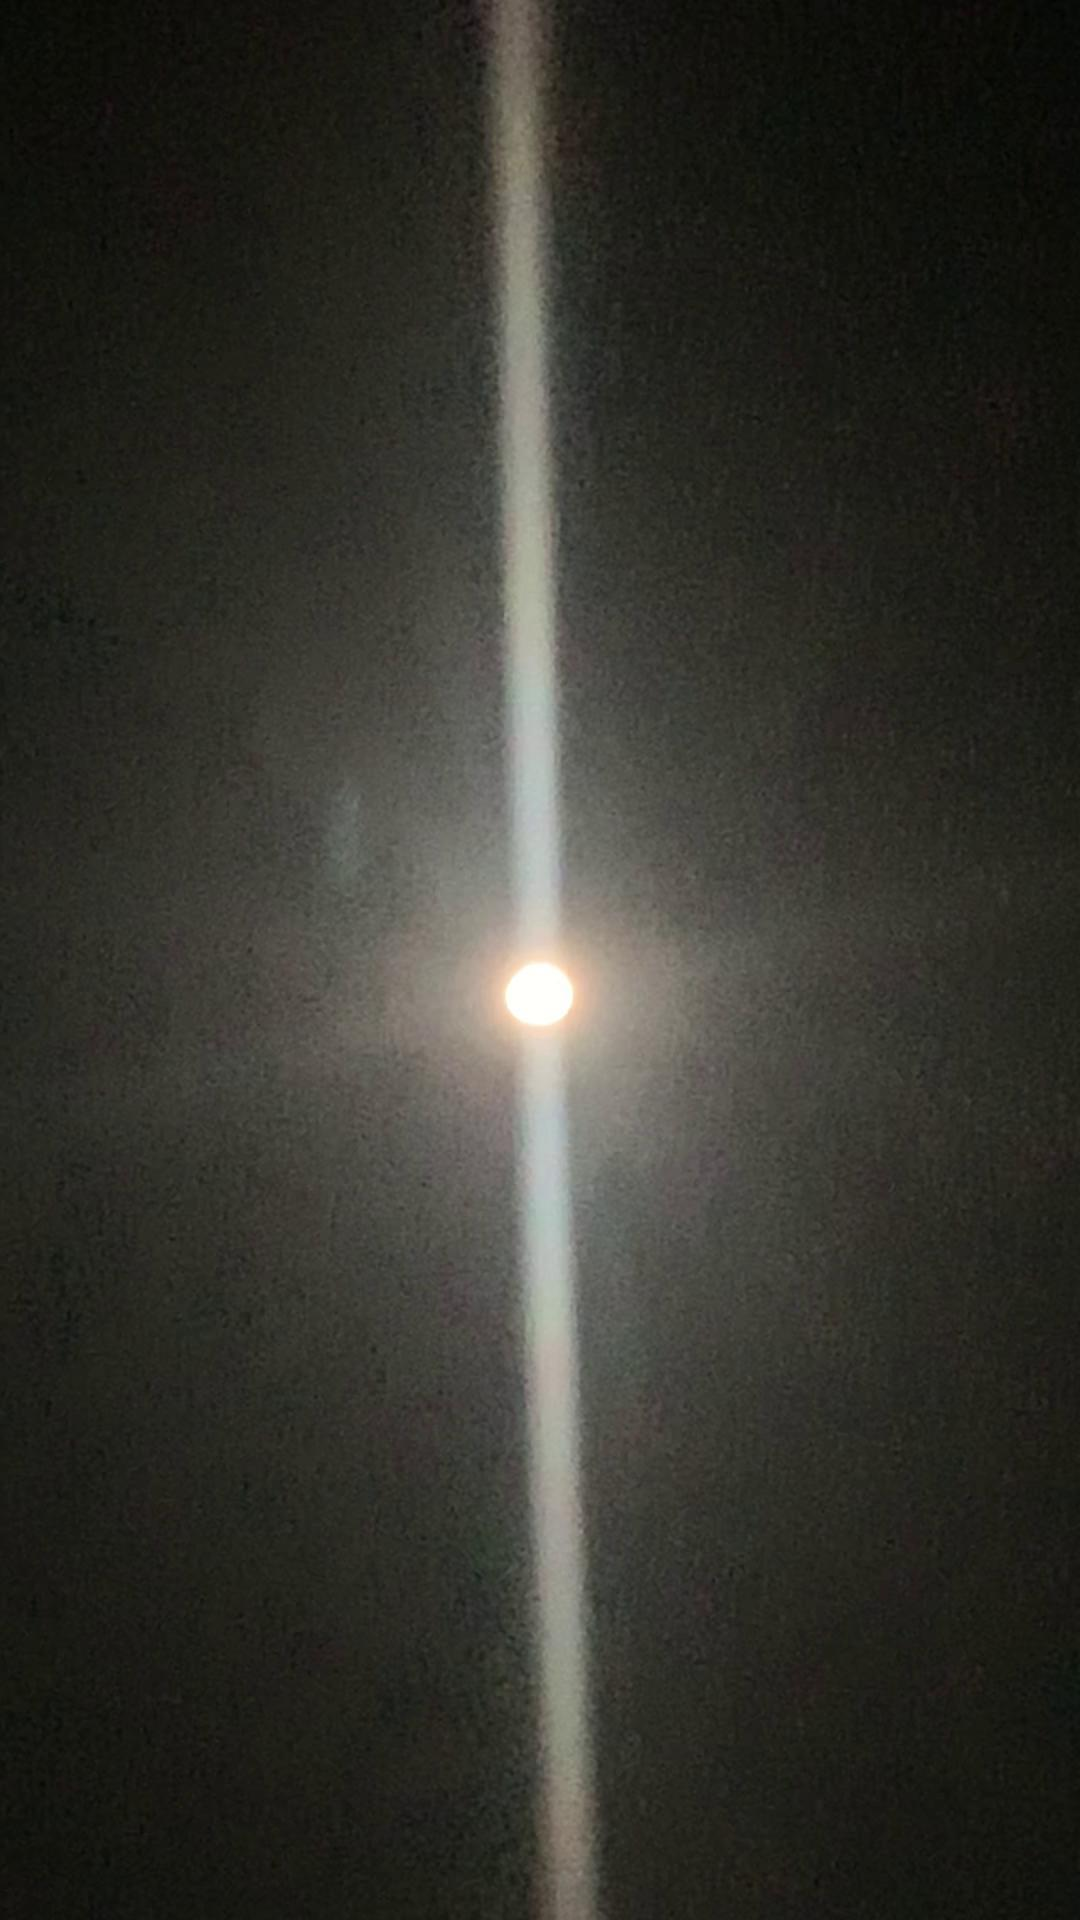moon: (483, 938, 605, 1050)
